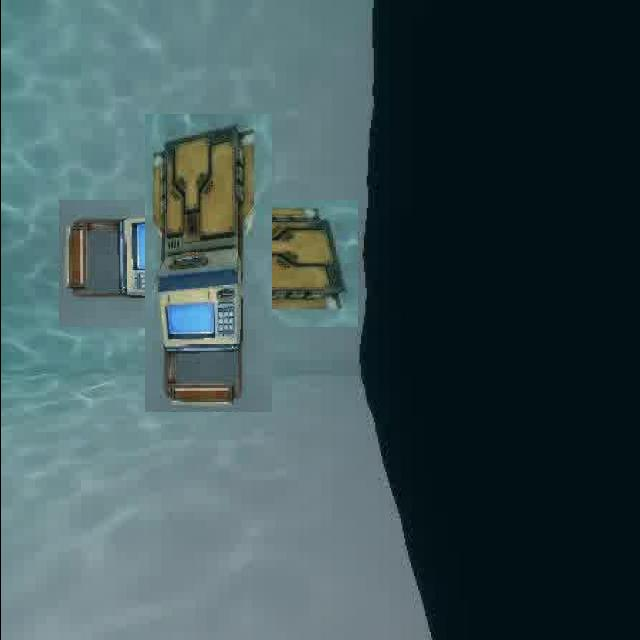Control Panel: (101, 157, 314, 370)
